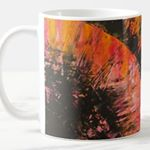cups: (1, 6, 145, 141)
